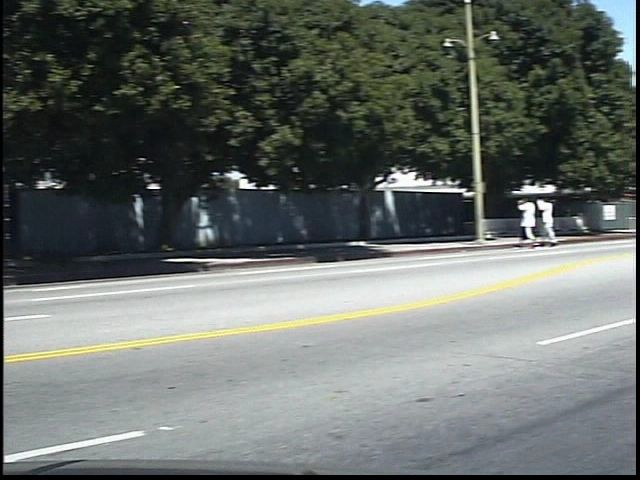person: (530, 190, 555, 253), (550, 192, 576, 251)
